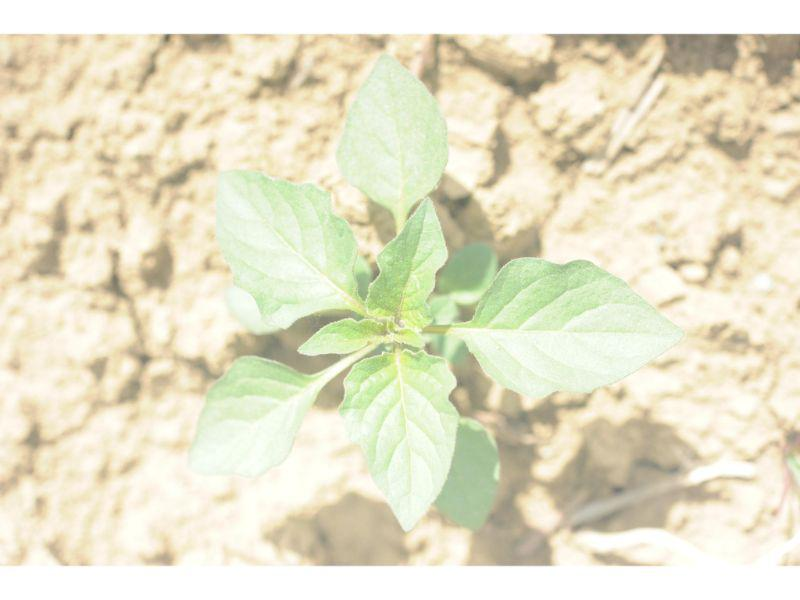nightshade: (186, 53, 681, 534)
